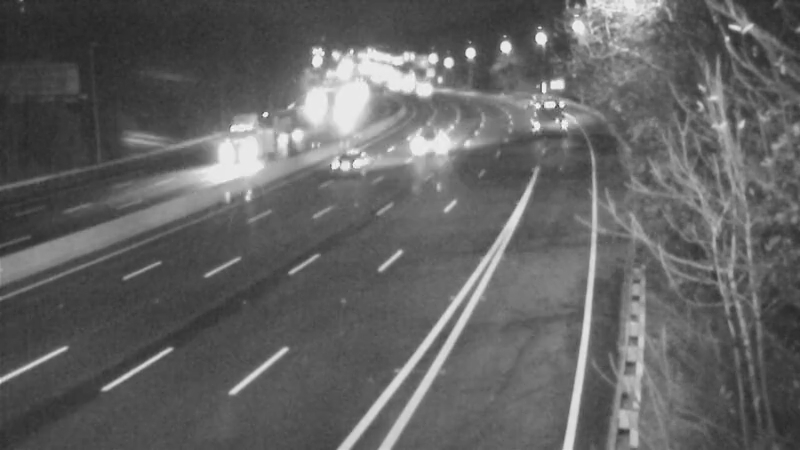vehicle: (306, 120, 386, 200), (199, 110, 279, 190), (520, 87, 570, 137), (405, 117, 455, 167)
